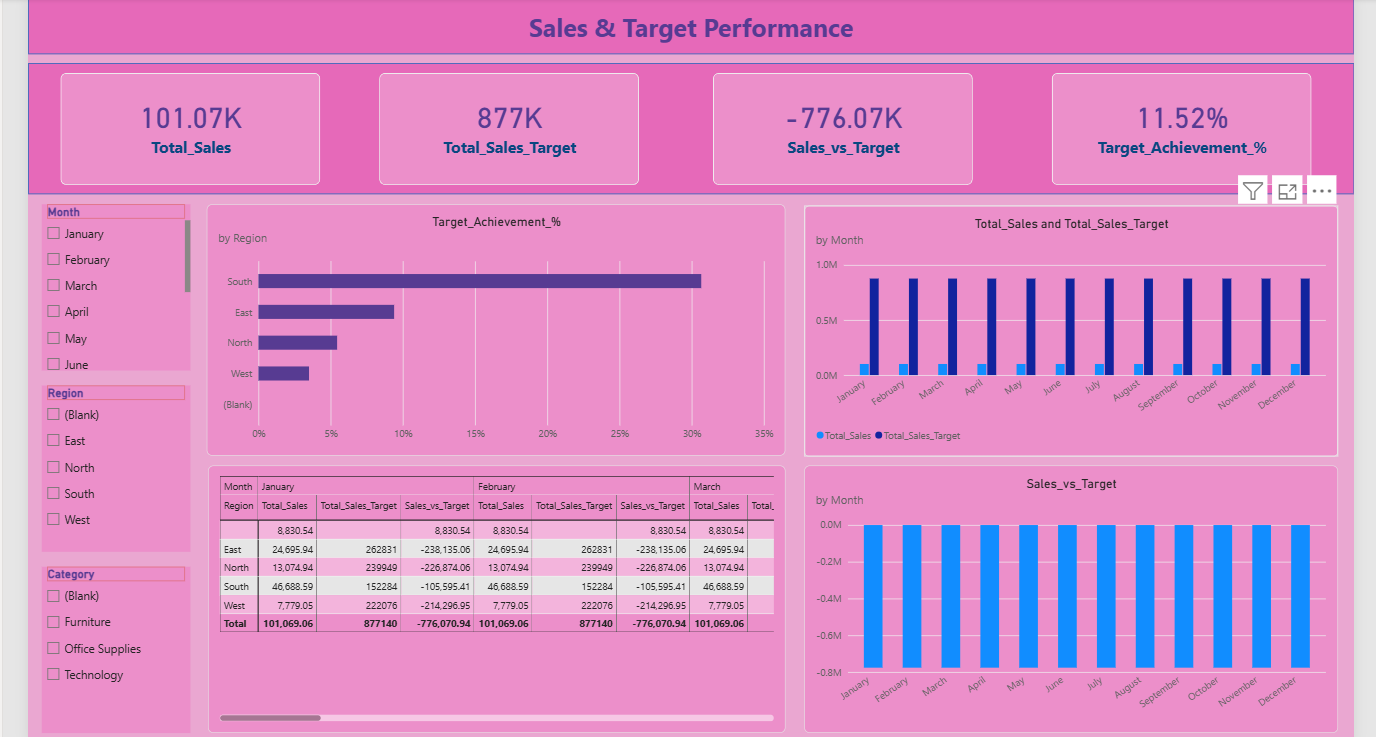

This screenshot's page, from the dashboard's own definition file:
{"tool":"powerbi","page":{"name":"Sales & Target Performance","canvas":[1920,1080],"ordinal":1},"visuals":[{"type":"shape","box":[0,0,1920.1,81.4],"z":0},{"type":"shape","box":[0,94.1,1920.1,190],"z":1},{"type":"cardVisual","fields":{"Data":["fact_Orders.Total_Sales"]},"box":[47.1,108.6,376.4,162.9],"z":2},{"type":"cardVisual","fields":{"Data":["fact_Targets.Total_Sales_Target"]},"box":[508.5,108.6,376.4,162.9],"z":3},{"type":"cardVisual","fields":{"Data":["fact_Orders.Sales_vs_Target"]},"box":[991.7,108.6,376.4,162.9],"z":4},{"type":"cardVisual","fields":{"Data":["fact_Targets.Target_Achievement_%"]},"box":[1482.1,108.6,376.4,162.9],"z":5},{"type":"clusteredColumnChart","fields":{"Category":["dim_month.monthstart.Variation.Date Hierarchy.Month"],"Y":["fact_Orders.Total_Sales","fact_Targets.Total_Sales_Target"]},"box":[1123.8,300.4,772.7,363.7],"z":6},{"type":"clusteredBarChart","fields":{"Category":["dim_Region.Region"],"Y":["fact_Targets.Target_Achievement_%"]},"box":[258.8,298.6,837.9,363.7],"z":7},{"type":"clusteredColumnChart","fields":{"Category":["dim_month.monthstart.Variation.Date Hierarchy.Month"],"Y":["fact_Orders.Sales_vs_Target"]},"box":[1123.8,676.8,772.7,387.3],"z":8},{"type":"pivotTable","title":"Month * Region Performance","fields":{"Columns":["dim_month.monthstart.Variation.Date Hierarchy.Month"],"Rows":["dim_Region.Region"],"Values":["fact_Orders.Total_Sales","fact_Targets.Total_Sales_Target","fact_Orders.Sales_vs_Target"]},"box":[260.6,676.8,836.1,387.3],"z":9},{"type":"slicer","fields":{"Values":["dim_month.monthstart.Variation.Date Hierarchy.Month"]},"box":[19.9,298.6,215.3,240.7],"z":10},{"type":"slicer","fields":{"Values":["dim_Products.Category"]},"box":[19.9,823.4,215.3,240.7],"z":11},{"type":"slicer","fields":{"Values":["dim_Region.Region"]},"box":[19.9,561,215.3,240.7],"z":12}]}

Visuals, with their boxes on the page's 1920x1080 design canvas (x1, y1, x2, y2). These are canvas units, not pixel positions in the 1376x737 screenshot, which may show the page scaled, cropped or inside an application window:
shape: x1=0 y1=0 x2=1920 y2=81
shape: x1=0 y1=94 x2=1920 y2=284
cardVisual - fact_Orders.Total_Sales: x1=47 y1=109 x2=424 y2=272
cardVisual - fact_Targets.Total_Sales_Target: x1=508 y1=109 x2=885 y2=272
cardVisual - fact_Orders.Sales_vs_Target: x1=992 y1=109 x2=1368 y2=272
cardVisual - fact_Targets.Target_Achievement_%: x1=1482 y1=109 x2=1858 y2=272
clusteredColumnChart - dim_month.monthstart.Variation.Date Hierarchy.Month x fact_Orders.Total_Sales: x1=1124 y1=300 x2=1896 y2=664
clusteredBarChart - dim_Region.Region x fact_Targets.Target_Achievement_%: x1=259 y1=299 x2=1097 y2=662
clusteredColumnChart - dim_month.monthstart.Variation.Date Hierarchy.Month x fact_Orders.Sales_vs_Target: x1=1124 y1=677 x2=1896 y2=1064
"Month * Region Performance" pivotTable: x1=261 y1=677 x2=1097 y2=1064
slicer - dim_month.monthstart.Variation.Date Hierarchy.Month: x1=20 y1=299 x2=235 y2=539
slicer - dim_Products.Category: x1=20 y1=823 x2=235 y2=1064
slicer - dim_Region.Region: x1=20 y1=561 x2=235 y2=802
